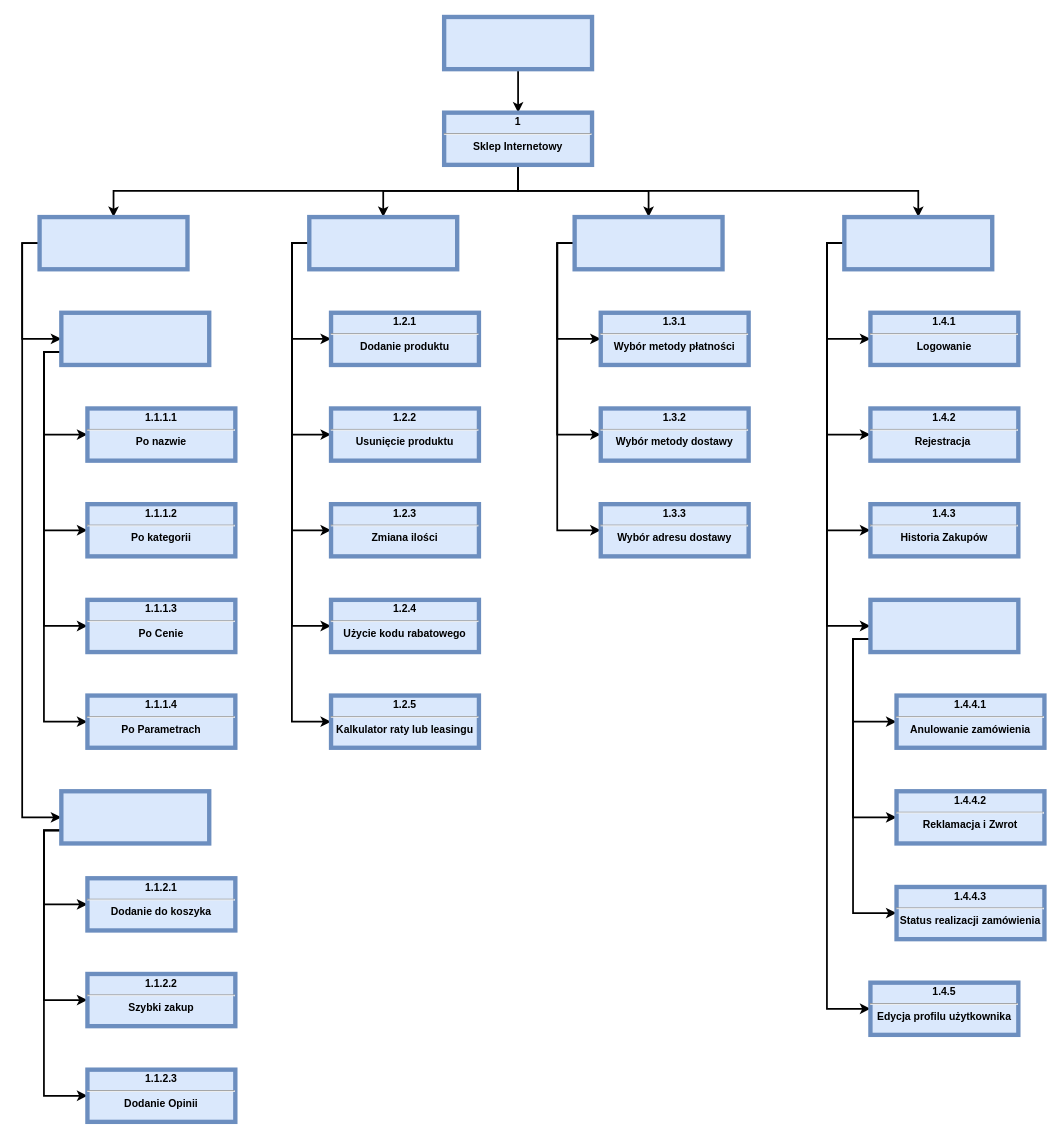
The diagram is 1061 pixels wide and 1139 high, and some of its shapes have lost their labels. Here are the shapes that lost their labels. From the top down, the box of each, then its label:
(442, 14, 594, 71): SPRZEDAŻ
(37, 214, 189, 271): 1.1 Wyszukiwanie produktów
(307, 214, 459, 271): 1.2 Koszyk
(572, 214, 724, 271): 1.3 Płatność i przesyłka
(842, 214, 994, 271): 1.4 Konto użytkownika
(59, 310, 211, 367): 1.1.1 Filtrowanie
(868, 597, 1020, 654): 1.4.4 Zarządzanie zamówieniem
(59, 789, 211, 845): 1.1.2 Podgląd
